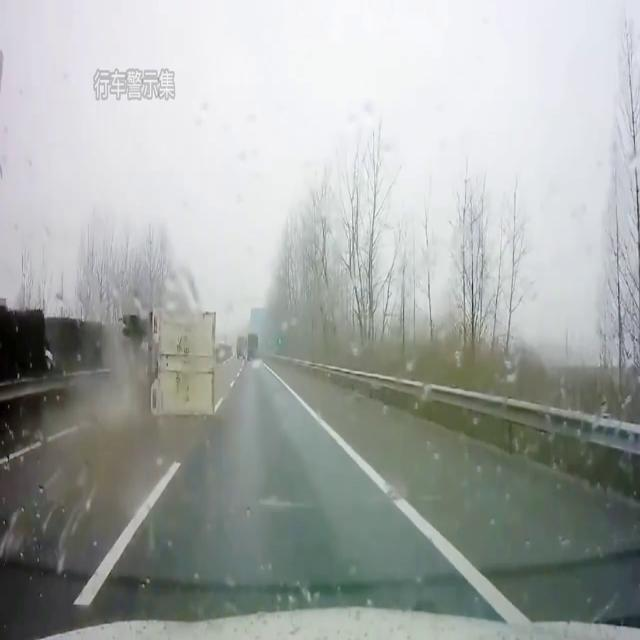single accident: (87, 263, 238, 452)
